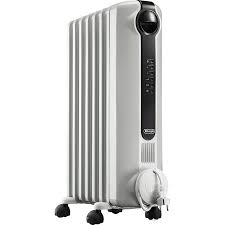Radiator: (56, 1, 171, 224)
